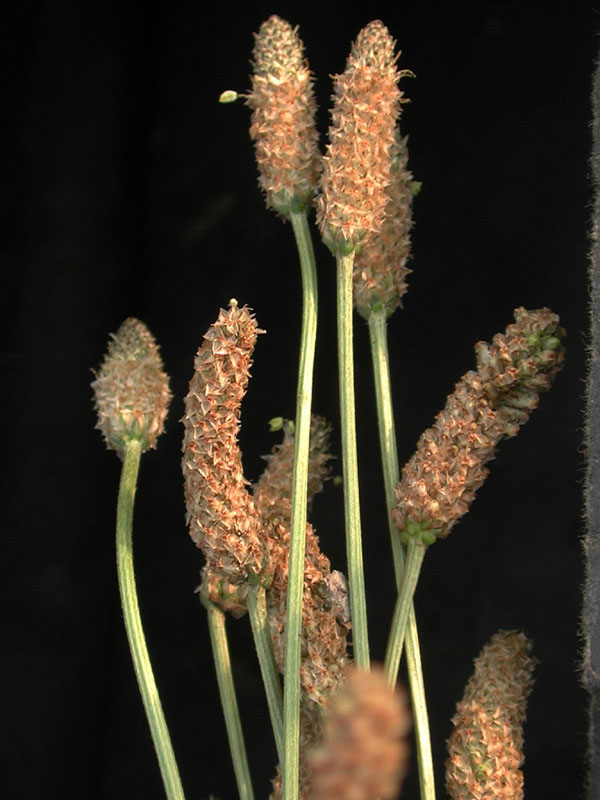buckhorn plantain: (103, 12, 571, 800)
